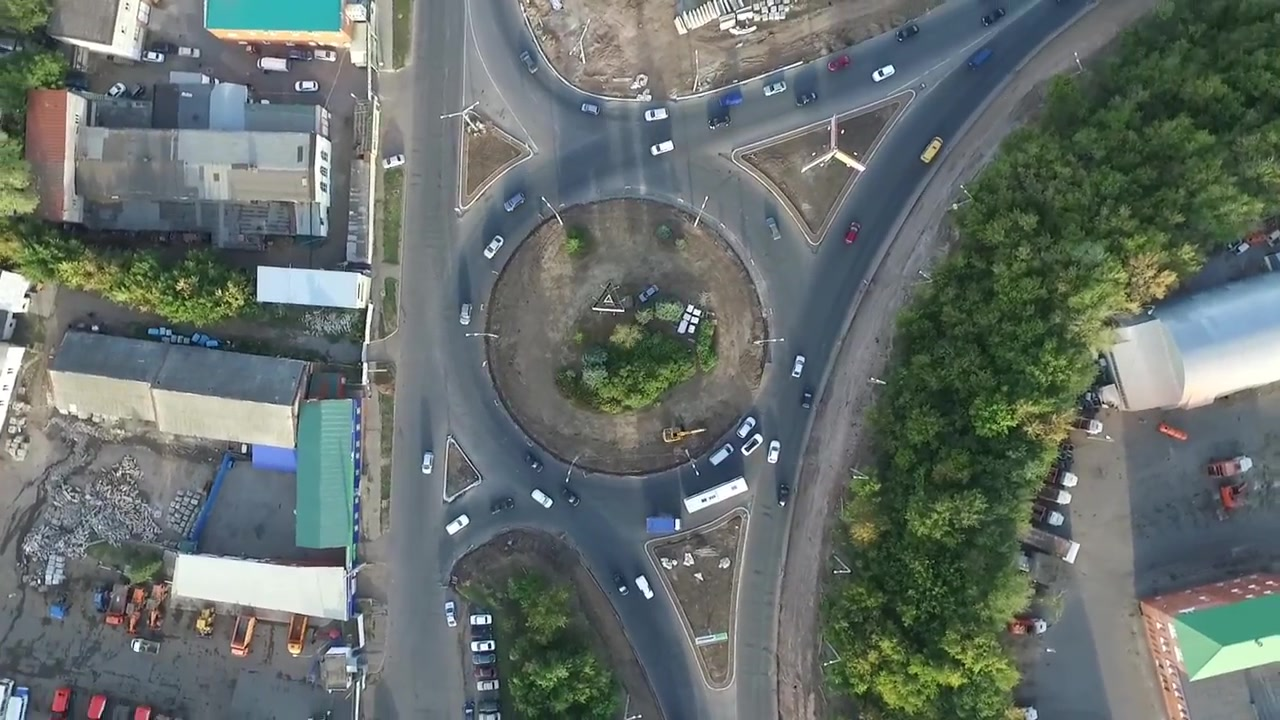car: (680, 474, 751, 515), (229, 613, 257, 658), (104, 583, 129, 626), (4, 686, 31, 720), (917, 134, 946, 165), (1007, 615, 1047, 637), (287, 613, 307, 656), (644, 514, 683, 536), (443, 512, 472, 539), (966, 46, 995, 71), (708, 441, 735, 467), (739, 431, 765, 458), (1, 677, 17, 719), (482, 233, 505, 261), (869, 61, 897, 84), (981, 6, 1006, 31), (633, 572, 655, 600), (129, 637, 162, 655), (735, 413, 757, 440), (257, 56, 292, 72), (488, 496, 516, 516), (502, 191, 527, 213), (518, 49, 539, 75), (894, 23, 920, 44), (648, 138, 676, 157), (530, 488, 554, 510), (717, 90, 744, 109), (443, 600, 460, 629), (760, 79, 787, 97), (612, 573, 631, 598), (765, 216, 783, 242), (843, 219, 861, 245), (559, 487, 581, 508), (104, 81, 127, 101), (637, 283, 660, 303), (643, 106, 670, 123), (706, 114, 733, 131), (790, 353, 807, 380), (381, 152, 406, 170), (794, 90, 819, 108), (827, 54, 852, 72), (523, 453, 544, 474), (766, 437, 781, 465), (420, 449, 435, 476), (458, 301, 473, 327), (127, 81, 146, 101), (472, 665, 499, 679), (141, 49, 166, 64), (294, 79, 320, 93), (475, 678, 500, 692), (471, 652, 497, 665), (150, 42, 178, 54), (469, 612, 493, 626), (778, 482, 790, 510), (469, 640, 496, 652), (313, 49, 337, 62), (477, 699, 501, 712), (802, 385, 814, 411), (288, 49, 313, 61), (580, 102, 601, 116), (177, 46, 201, 58), (462, 698, 475, 720), (478, 712, 501, 720)
